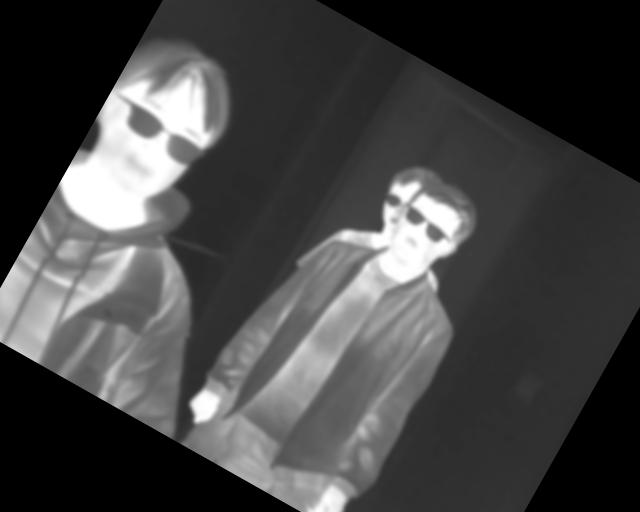face: (73, 19, 254, 219), (378, 168, 488, 289)
